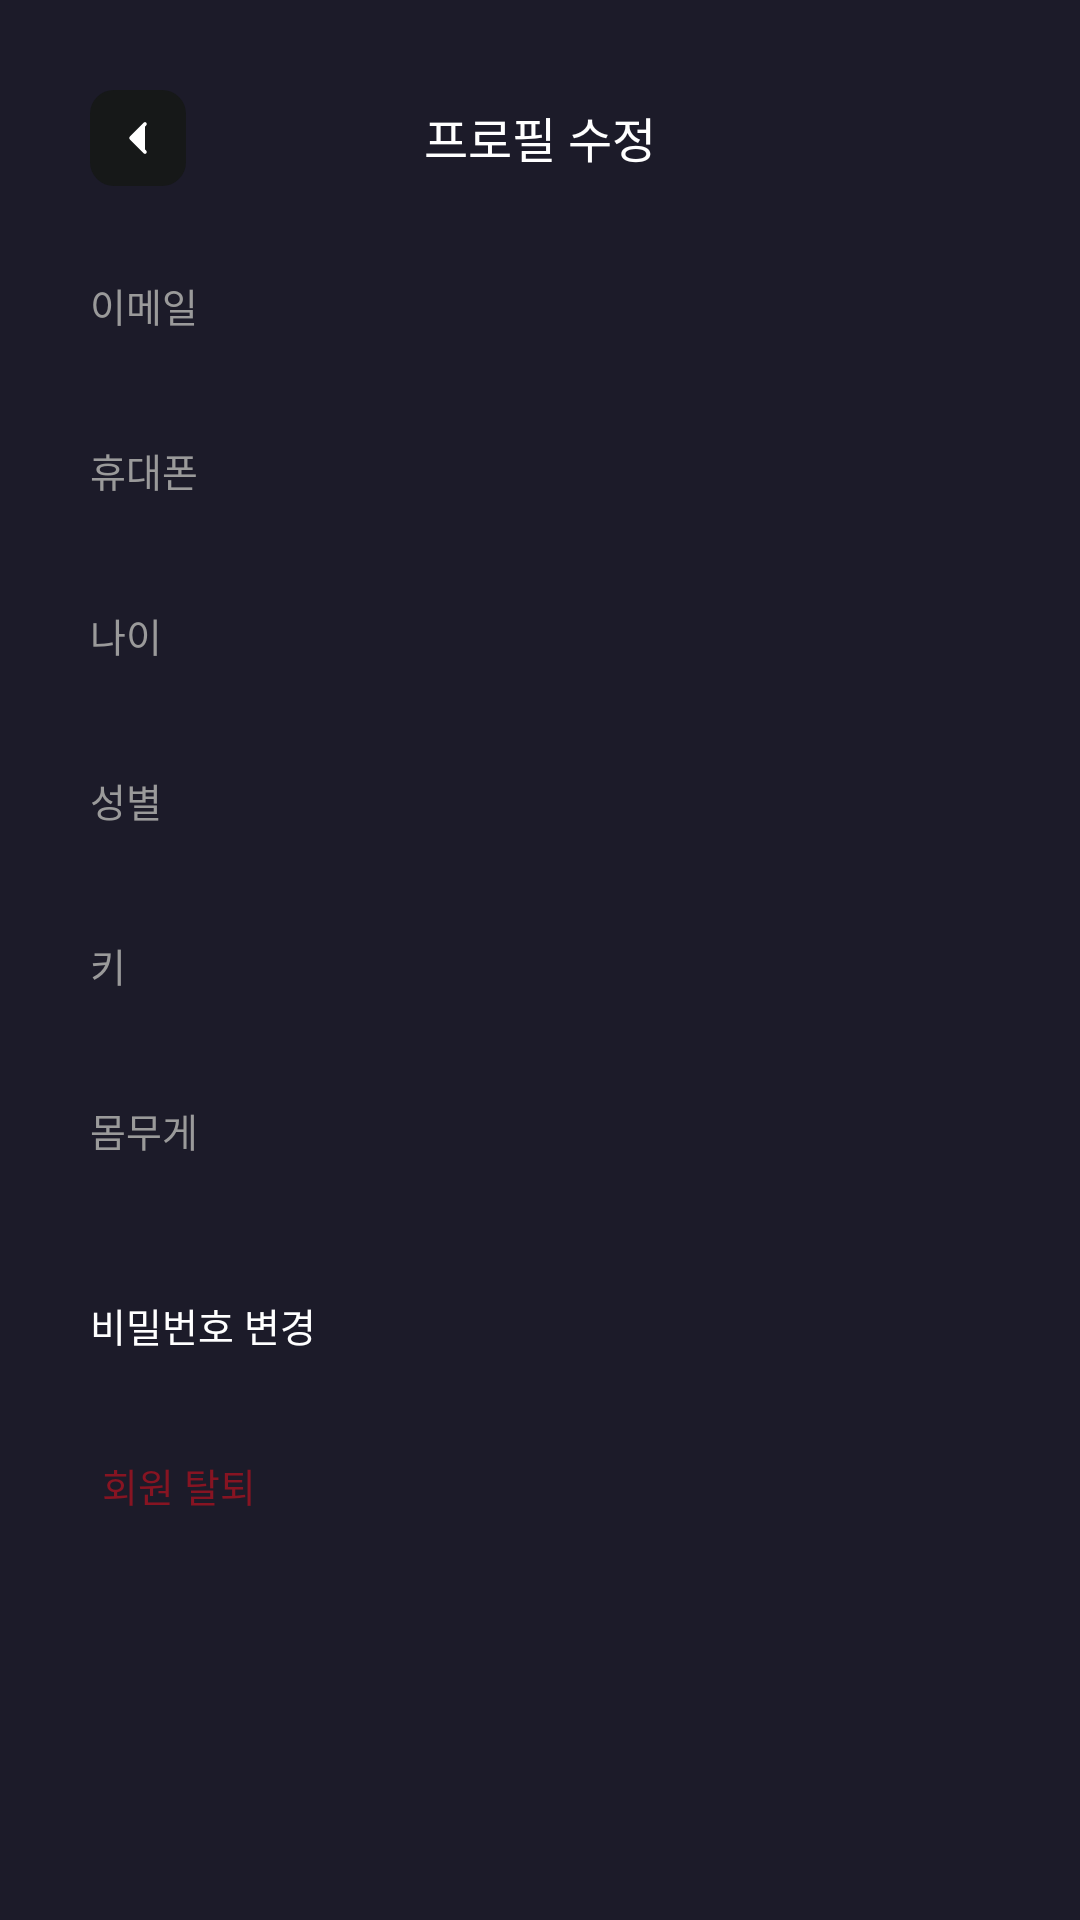

Screen size 1080 x 1920. Icon name, then its center in pixels as (x,y):
뒤로가기: (138,138)
